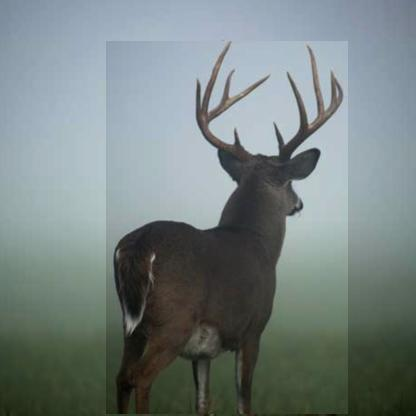Deer: (106, 41, 348, 414)
